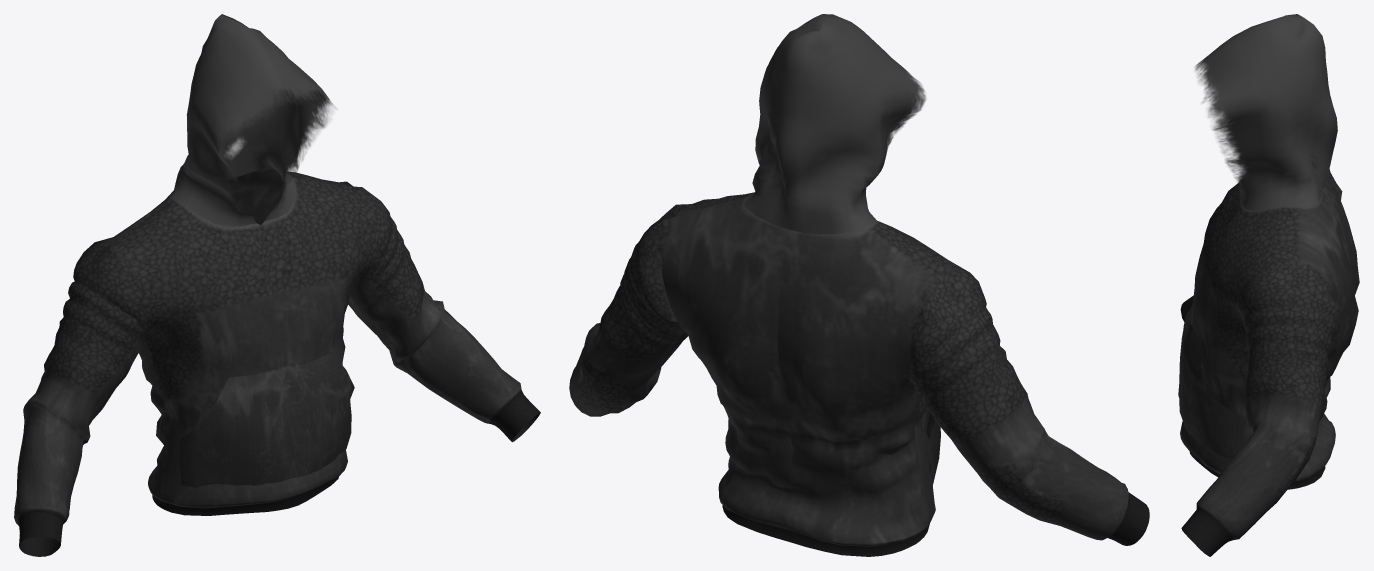
File: hoodie.glb
3 views of the same model, side by side, from view 1: azimuth 30°, elevation 25°; view 2: azimuth 150°, elevation 25°; view 3: azimuth 270°, elevation 25° (orthographic). The views are drawn at different scales.
Parts seen in each view (by area): view 1: polySurface5; view 2: polySurface5; view 3: polySurface5.
Part boxes in pixels (x1,y1,x2,y2): polySurface5: [14, 14, 540, 556]; polySurface5: [569, 14, 1149, 556]; polySurface5: [1178, 14, 1359, 556].
Size of the model in its own units: 991 by 842 by 316.
1 material, 1 textured.
